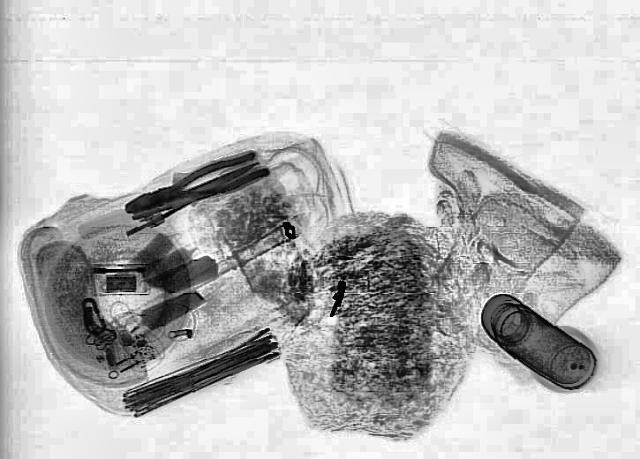Pliers: (112, 146, 274, 222)
